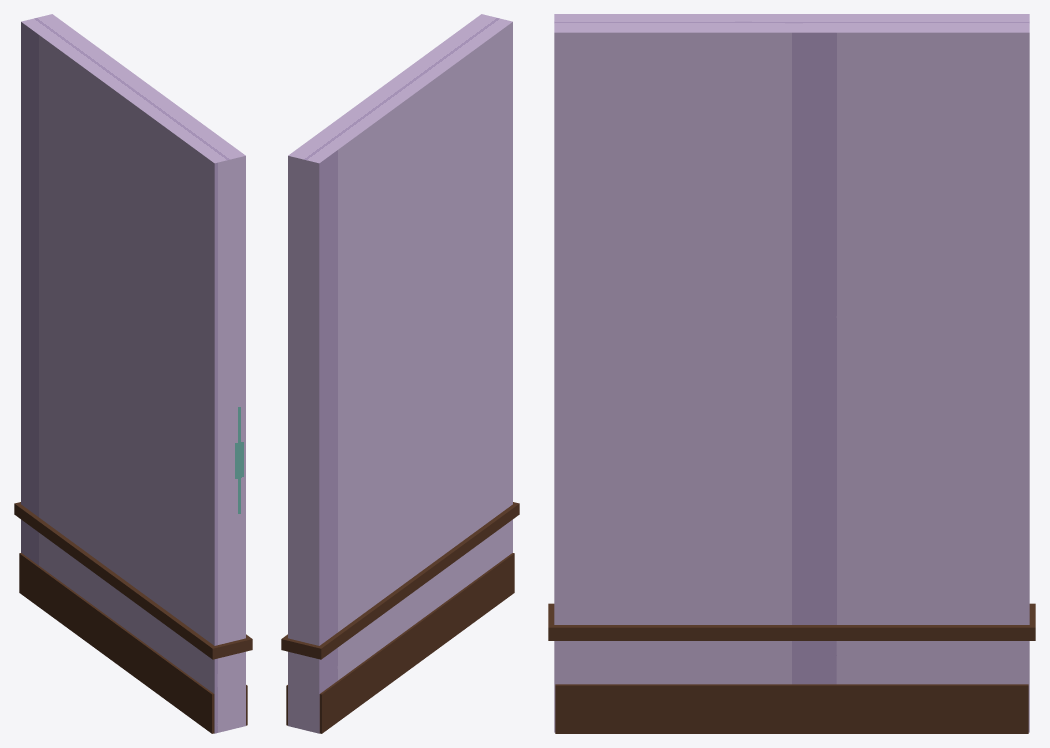
Rendered from laundry_east.glb.
3 renders of one model, left to right at view 1: azimuth 30°, elevation 25°; view 2: azimuth 150°, elevation 25°; view 3: azimuth 270°, elevation 25°, orthographic. The views are drawn at different scales.
Visible parts, largest first — view 1: Box1, Box2, Box4; view 2: Box1, Box2, Box4; view 3: Box1, Box2, Box3, Box4.
Boxes of the visible parts, left/top/right/bottom form: Box1: left=21, top=14, right=245, bottom=733; Box2: left=19, top=553, right=247, bottom=733; Box4: left=14, top=502, right=252, bottom=659; Box1: left=288, top=14, right=512, bottom=733; Box2: left=286, top=553, right=514, bottom=733; Box4: left=281, top=502, right=519, bottom=659; Box1: left=554, top=14, right=1029, bottom=732; Box2: left=555, top=684, right=1028, bottom=733; Box3: left=554, top=641, right=1029, bottom=732; Box4: left=548, top=603, right=1035, bottom=640.
Bounding box in the file's own units: 0.19 × 2.6 × 1.64.
2 materials, 1 textured.
